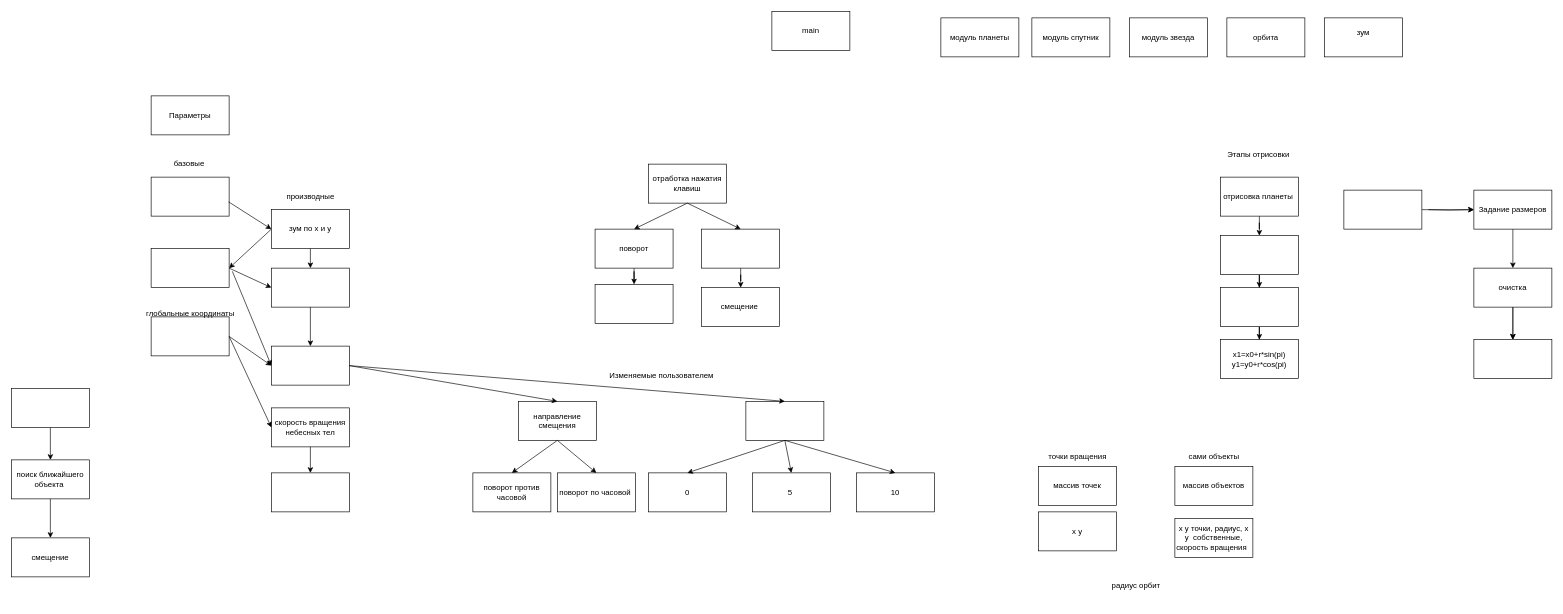
Image size: 1563x614. Some labels were removed from this diagram. Each missing label, with the centre of its shape:
"f_planet(x,y)" belongs at [1259,255].
"x=x1*zoomx y=y1*zoomy" belongs at [1259,307].
"гравитация" belongs at [50,407].
"координаты небесных тел" belongs at [310,492].
"настройки окна" belongs at [1382,209].
"отображение по центру в зависимости от размера окна" belongs at [310,287].
"подсчет итераций" belongs at [1512,359].
"прицел" belongs at [633,303].
"размер окна" belongs at [189,196].
"скорость" belongs at [740,248].
"скорость смещения" belongs at [784,420].
"смещение относительно центра экрана" belongs at [310,365].
"точка вращения небесных тел" belongs at [189,336].
"центр экрана" belongs at [189,268].
